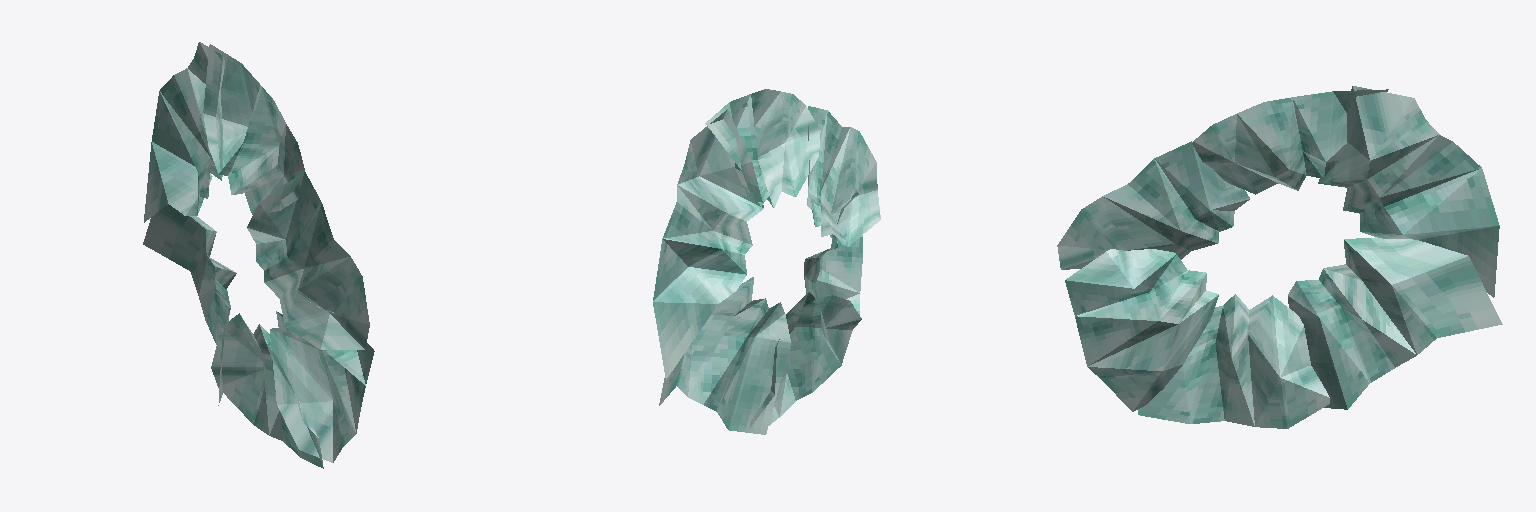
3 views of the same model, side by side, from view 1: azimuth 30°, elevation 25°; view 2: azimuth 150°, elevation 25°; view 3: azimuth 270°, elevation 25° (orthographic).
Visible parts, largest first — view 1: level1; view 2: level1; view 3: level1.
Part boxes in pixels (x1,y1,x2,y2): level1: (143,42,374,468); level1: (653,89,880,434); level1: (1057,86,1502,428).
Size of the model in its own units: 389 by 2261 by 2647.
Materials: 1 (1 with a texture image).